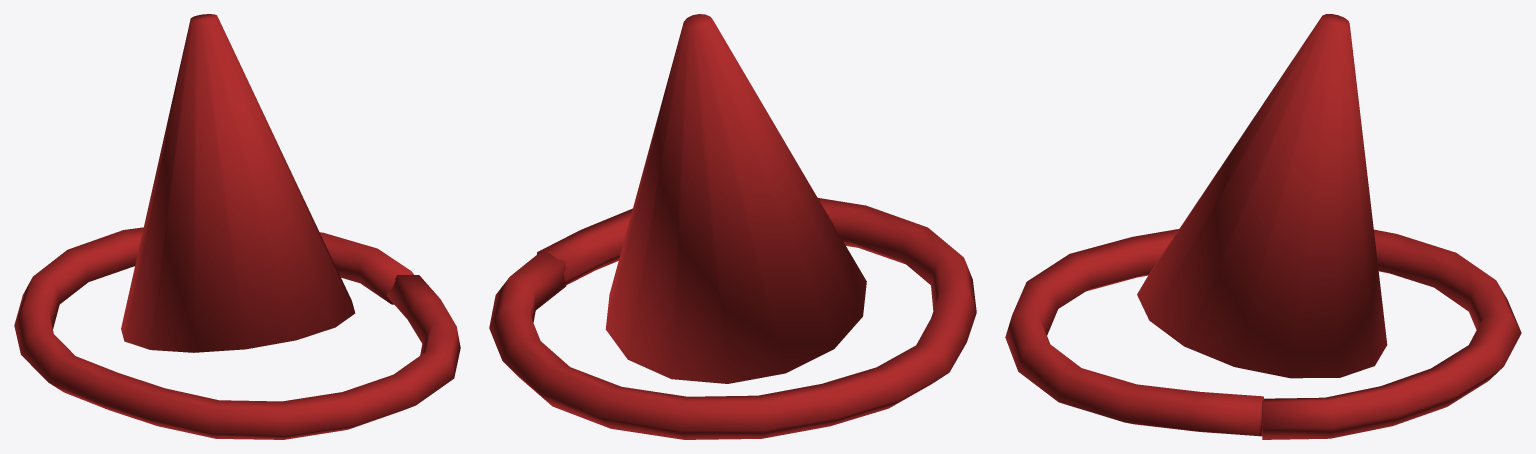
Rendered from red_hat_head.glb.
3 renders of one model, left to right at view 1: azimuth 30°, elevation 25°; view 2: azimuth 150°, elevation 25°; view 3: azimuth 270°, elevation 25°, orthographic. The views are drawn at different scales.
Visible parts, largest first — view 1: red_hat_head; view 2: red_hat_head; view 3: red_hat_head.
Boxes of the visible parts, x1,y1,x2,y2 form: red_hat_head: [14, 14, 460, 439]; red_hat_head: [489, 14, 976, 439]; red_hat_head: [1005, 14, 1521, 439].
Bounding box in the file's own units: 0.3815 × 0.3005 × 0.4229.
